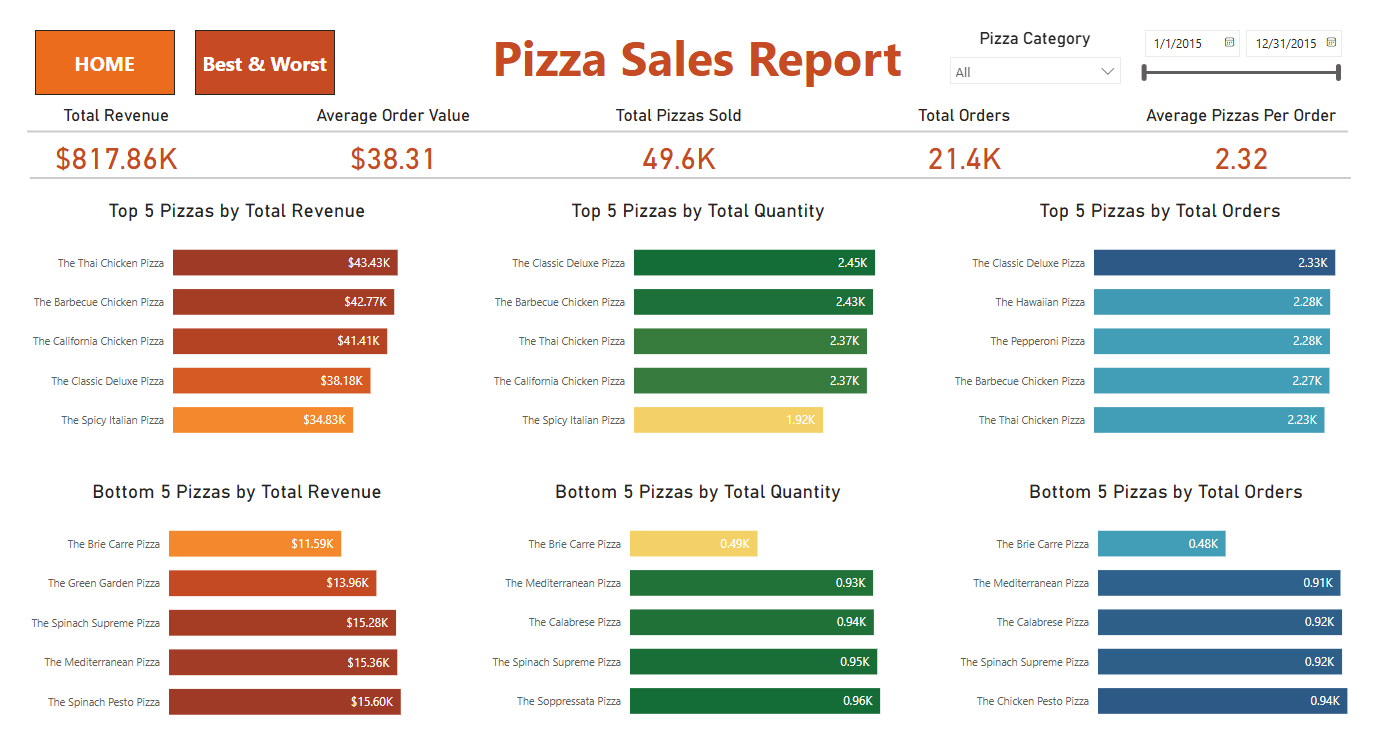

The page's visual inventory and layout, read from the dashboard file:
{"tool":"powerbi","page":{"name":"Best & Worst","canvas":[1380,720],"ordinal":1},"visuals":[{"type":"barChart","title":"Top 5 Pizzas by Total Revenue","fields":{"Category":["Table1.pizza_name"],"Y":["Sum(Table1.total_price)"]},"box":[10,180,441,256],"z":0},{"type":"barChart","title":"Top 5 Pizzas by Total Quantity","fields":{"Category":["Table1.pizza_name"],"Y":["Sum(Table1.quantity)"]},"box":[471.2,180,441,256],"z":1000},{"type":"barChart","title":"Top 5 Pizzas by Total Orders","fields":{"Category":["Table1.pizza_name"],"Y":["Table1.Total Orders"]},"box":[932.5,180,441,256],"z":2000},{"type":"barChart","title":"Bottom 5 Pizzas by Total Revenue","fields":{"Category":["Table1.pizza_name"],"Y":["Sum(Table1.total_price)"]},"box":[10,461.2,441.2,256.2],"z":3000},{"type":"barChart","title":"Bottom 5 Pizzas by Total Quantity","fields":{"Category":["Table1.pizza_name"],"Y":["Sum(Table1.quantity)"]},"box":[470.6,461.2,441,256],"z":4000},{"type":"barChart","title":"Bottom 5 Pizzas by Total Orders","fields":{"Category":["Table1.pizza_name"],"Y":["Table1.Total Orders"]},"box":[938.8,461.2,441,256],"z":5000},{"type":"pageNavigator","box":[27.5,11.2,300,65],"z":6000},{"type":"shape","box":[22.5,152.5,1321,12],"z":7000},{"type":"shape","box":[20,106.2,1321.2,12.5],"z":8000},{"type":"card","title":"Total Revenue","fields":{"Values":["Sum(Table1.total_price)"]},"box":[0,86.2,218.8,83.8],"z":9000},{"type":"card","title":"Average Order Value","fields":{"Values":["Table1.average Order Value"]},"box":[276.9,86.2,218.8,83.8],"z":10000},{"type":"card","title":"Total Pizzas Sold","fields":{"Values":["Table1.Total Pizzas Sold"]},"box":[553.8,86.2,236.2,83.8],"z":11000},{"type":"card","title":"Total Orders","fields":{"Values":["Table1.Total Orders"]},"box":[848.1,86.2,218.8,83.8],"z":12000},{"type":"card","title":"Average Pizzas Per Order","fields":{"Values":["Table1.Average Pizzas Per Order"]},"box":[1125,86.2,218.8,83.8],"z":13000},{"type":"textbox","box":[472.5,0,435,76.2],"z":14000},{"type":"slicer","fields":{"Values":["Table1.order_date"]},"box":[1125,1.2,222.5,85],"z":15000},{"type":"slicer","title":"Pizza Category","fields":{"Values":["Table1.pizza_category"]},"box":[932.5,8.8,191.2,70],"z":16000}]}

Visuals, with their boxes in screenshot pixels (x1, y1, x2, y2), scaled from the page's 1380x720 canvas onto the 1394x743 screenshot:
"Top 5 Pizzas by Total Revenue" barChart: box(10, 186, 456, 450)
"Top 5 Pizzas by Total Quantity" barChart: box(476, 186, 921, 450)
"Top 5 Pizzas by Total Orders" barChart: box(942, 186, 1387, 450)
"Bottom 5 Pizzas by Total Revenue" barChart: box(10, 476, 456, 740)
"Bottom 5 Pizzas by Total Quantity" barChart: box(475, 476, 921, 740)
"Bottom 5 Pizzas by Total Orders" barChart: box(948, 476, 1393, 740)
pageNavigator: box(28, 12, 331, 79)
shape: box(23, 157, 1357, 170)
shape: box(20, 110, 1355, 122)
"Total Revenue" card: box(0, 89, 221, 175)
"Average Order Value" card: box(280, 89, 501, 175)
"Total Pizzas Sold" card: box(559, 89, 798, 175)
"Total Orders" card: box(857, 89, 1078, 175)
"Average Pizzas Per Order" card: box(1136, 89, 1357, 175)
textbox: box(477, 0, 917, 79)
slicer - Table1.order_date: box(1136, 1, 1361, 89)
"Pizza Category" slicer: box(942, 9, 1135, 81)
